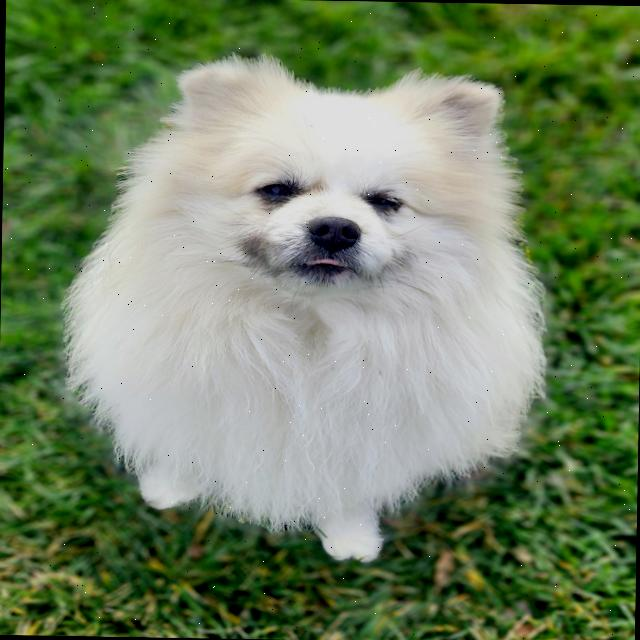pomeranian_dog: (97, 48, 563, 406)
